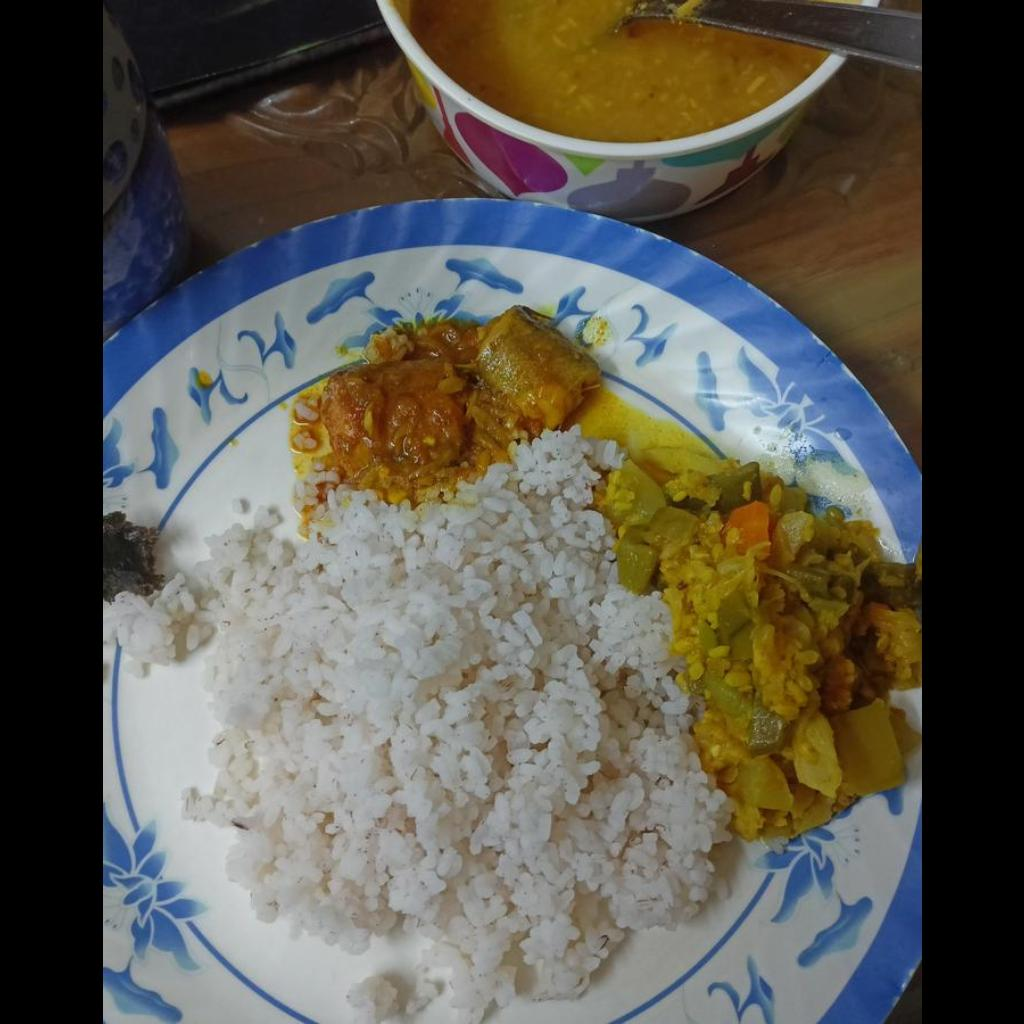daal: (392, 0, 827, 141)
fish: (477, 306, 605, 434)
rice: (109, 433, 730, 1022)
vegetable: (605, 447, 920, 833)
